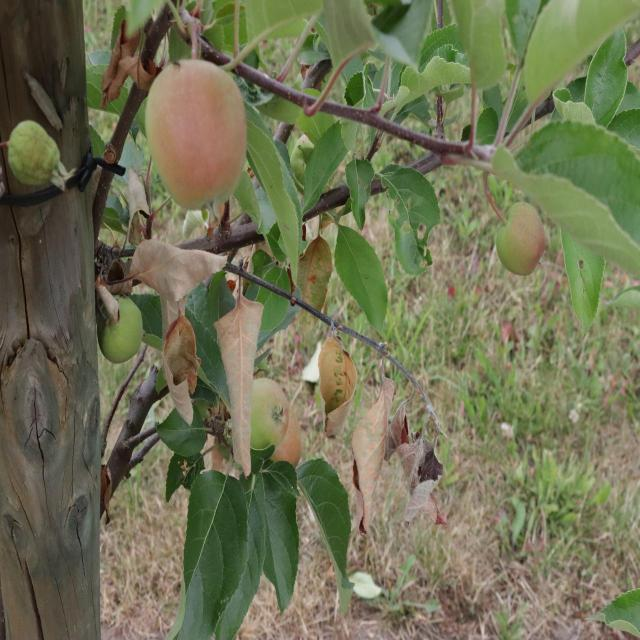-FireBlight-: (103, 180, 230, 332), (148, 275, 206, 430), (224, 283, 264, 489), (359, 359, 388, 559), (317, 316, 358, 449), (90, 20, 158, 90), (392, 392, 428, 500), (294, 238, 332, 332)
